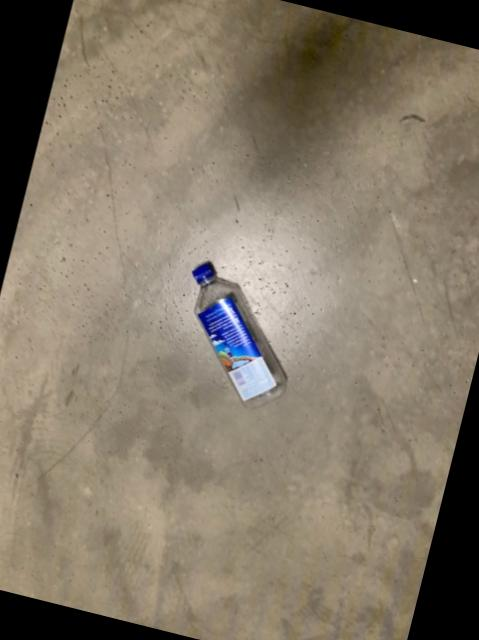plastic: (193, 261, 287, 407)
